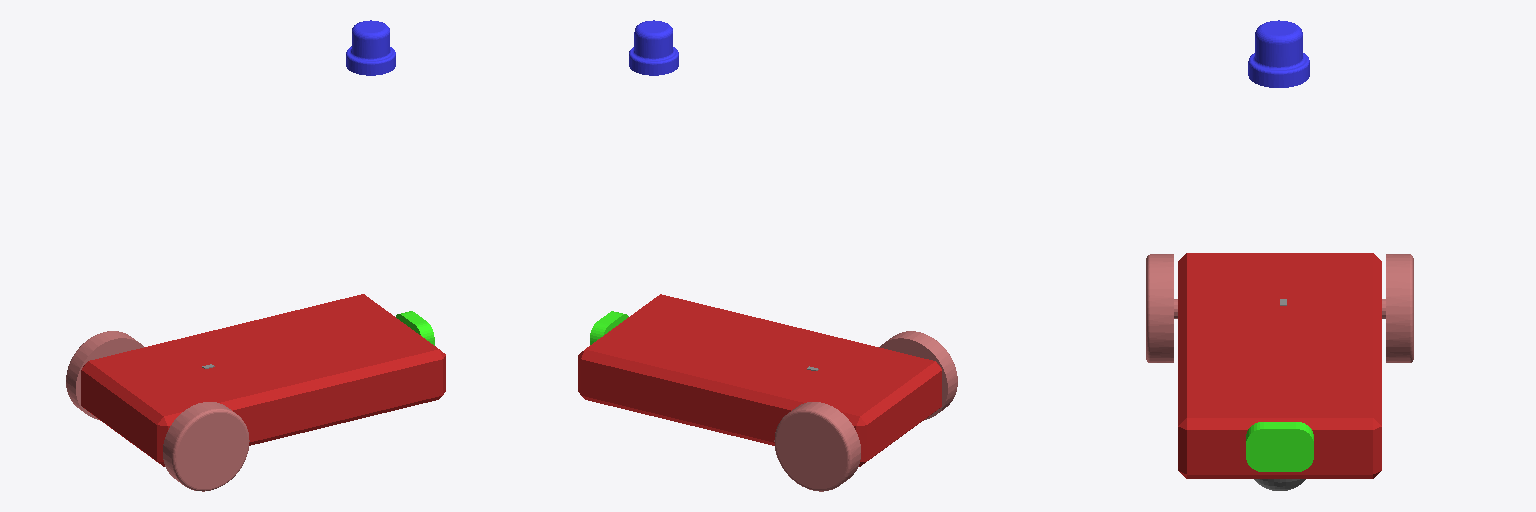
URDF robot description (diffRobot):
<?xml version="1.0"?>
<!-- This URDF was automatically created by SolidWorks to URDF Exporter! Originally created by [author] ([email redacted]) 
     Commit Version: 1.6.0-4-g7f85cfe  Build Version: 1.6.7995.38578
     For more information, please see http://wiki.ros.org/sw_urdf_exporter -->
<robot
  name="diffRobot">
  <link
    name="base_link">
    <inertial>
      <origin
        xyz="-0.00062795 1.3878E-17 -0.024858"
        rpy="0 0 0" />
      <mass
        value="2.3353" />
      <inertia
        ixx="0.0047521"
        ixy="-2.8063E-19"
        ixz="-3.1072E-05"
        iyy="0.017631"
        iyz="3.4444E-19"
        izz="0.021441" />
    </inertial>
    <visual>
      <origin
        xyz="0 0 0"
        rpy="0 0 0" />
      <geometry>
        <mesh 
          filename="package://diffRobot/meshes/base_link.STL" />
      </geometry>
      <material
        name="">
        <color
          rgba="0.8 0.2 0.2 0.5" />
      </material>
    </visual>
    <collision>
      <origin
        xyz="0 0 0"
        rpy="0 0 0" />
      <geometry>
        <mesh
          filename="package://diffRobot/meshes/base_link.STL" />
      </geometry>
    </collision>
  </link>
  <link
    name="left_wheel_link">
    <inertial>
      <origin
        xyz="0 0 0.010376"
        rpy="0 0 0" />
      <mass
        value="0.10933" />
      <inertia
        ixx="4.6798E-05"
        ixy="2.5104E-37"
        ixz="-4.7781E-23"
        iyy="4.6798E-05"
        iyz="-5.6383E-21"
        izz="8.5328E-05" />
    </inertial>
    <visual>
      <origin
        xyz="0 0 0"
        rpy="0 0 0" />
      <geometry>
        <mesh
          filename="package://diffRobot/meshes/left_wheel_link.STL" />
      </geometry>
      <material
        name="">
        <color
          rgba="0.8 0.5 0.5 0.5" />
      </material>
    </visual>
    <collision>
      <origin
        xyz="0 0 0"
        rpy="0 0 0" />
      <geometry>
        <mesh
          filename="package://diffRobot/meshes/left_wheel_link.STL" />
      </geometry>
    </collision>
  </link>
  <joint
    name="left_wheel_joint"
    type="continuous">
    <origin
      xyz="-0.11 0.098 -0.03"
      rpy="1.5708 0 0" />
    <parent
      link="base_link" />
    <child
      link="left_wheel_link" />
    <axis
      xyz="0 0 -1" />
    <limit
      effort="10"
      velocity="10" />
    <dynamics
      damping="0.1"
      friction="0.1" />
  </joint>
  <link
    name="right_wheel_link">
    <inertial>
      <origin
        xyz="0 -1.3878E-17 -0.010376"
        rpy="0 0 0" />
      <mass
        value="0.10933" />
      <inertia
        ixx="4.6798E-05"
        ixy="-5.4115E-21"
        ixz="-1.1353E-20"
        iyy="4.6798E-05"
        iyz="1.6894E-20"
        izz="8.5328E-05" />
    </inertial>
    <visual>
      <origin
        xyz="0 0 0"
        rpy="0 0 0" />
      <geometry>
        <mesh
          filename="package://diffRobot/meshes/right_wheel_link.STL" />
      </geometry>
      <material
        name="">
        <color
          rgba="0.8 0.5 0.5 0.5" />
      </material>
    </visual>
    <collision>
      <origin
        xyz="0 0 0"
        rpy="0 0 0" />
      <geometry>
        <mesh
          filename="package://diffRobot/meshes/right_wheel_link.STL" />
      </geometry>
    </collision>
  </link>
  <joint
    name="right_wheel_joint"
    type="continuous">
    <origin
      xyz="-0.11 -0.098 -0.03"
      rpy="1.5708 0 0" />
    <parent
      link="base_link" />
    <child
      link="right_wheel_link" />
    <axis
      xyz="0 0 -1" />
    <limit
      effort="10"
      velocity="10" />
    <dynamics
      damping="0.1"
      friction="0.1" />
  </joint>
  <link
    name="imu_link">
    <inertial>
      <origin
        xyz="0 0 -0.0005"
        rpy="0 0 0" />
      <mass
        value="5.35E-05" />
      <inertia
        ixx="1.1592E-10"
        ixy="1.5752E-26"
        ixz="2.3049E-27"
        iyy="4.5029E-10"
        iyz="3.8221E-29"
        izz="5.5729E-10" />
    </inertial>
    <visual>
      <origin
        xyz="0 0 0"
        rpy="0 0 0" />
      <geometry>
        <mesh
          filename="package://diffRobot/meshes/imu_link.STL" />
      </geometry>
      <material
        name="">
        <color
          rgba="0.6 0.6 0.6 0.5" />
      </material>
    </visual>
    <collision>
      <origin
        xyz="0 0 0"
        rpy="0 0 0" />
      <geometry>
        <mesh
          filename="package://diffRobot/meshes/imu_link.STL" />
      </geometry>
    </collision>
  </link>
  <joint
    name="imu_joint"
    type="fixed">
    <origin
      xyz="-0.055983 0.0025 0.001"
      rpy="0 0 0" />
    <parent
      link="base_link" />
    <child
      link="imu_link" />
    <axis
      xyz="0 0 0" />
    <limit
      effort="0"
      velocity="0" />
    <dynamics
      damping="0"
      friction="0" />
  </joint>

  <link
    name="lidar_link">
    <inertial>
      <origin
        xyz="-1.0544E-07 7.1804E-08 -0.021531"
        rpy="0 0 0" />
      <mass
        value="0.047243" />
      <inertia
        ixx="1.0378E-05"
        ixy="-1.0396E-11"
        ixz="-1.2143E-11"
        iyy="1.0379E-05"
        iyz="1.7126E-11"
        izz="9.3515E-06" />
    </inertial>
    <visual>
      <origin
        xyz="0 0 0"
        rpy="0 0 0" />
      <geometry>
        <mesh
          filename="package://diffRobot/meshes/lidar_link.STL" />
      </geometry>
      <material
        name="">
        <color
          rgba="0.3 0.3 1 0.5" />
      </material>
    </visual>
    <collision>
      <origin
        xyz="0 0 0"
        rpy="0 0 0" />
      <geometry>
        <mesh
          filename="package://diffRobot/meshes/lidar_link.STL" />
      </geometry>
    </collision>
  </link>

  <joint
    name="lidar_link_joint"
    type="fixed">
    <origin xyz="0.11095 -0.00065698 0.3" rpy="0 0 0" />
    <parent link="base_link" />
    <child link="lidar_link" />
  </joint>

  <!-- Simple Ball Caster -->
  <link name="ball_caster_link">
    <inertial>
      <origin xyz="0 0 0" rpy="0 0 0" />
      <mass value="0.05" />
      <inertia
        ixx="0.00002"
        ixy="0"
        ixz="0"
        iyy="0.00002"
        iyz="0"
        izz="0.00002" />
    </inertial>
    <visual>
      <origin xyz="0 0 0" rpy="0 0 0" />
      <geometry>
        <sphere radius="0.025" />
      </geometry>
      <material name="grey">
        <color rgba="0.5 0.5 0.5 1" />
      </material>
    </visual>
    <collision>
      <origin xyz="0 0 0" rpy="0 0 0" />
      <geometry>
        <sphere radius="0.025" />
      </geometry>
    </collision>
  </link>

  <joint name="ball_caster_joint" type="fixed">
    <origin xyz="0.105 0 -0.05" rpy="0 0 0" />
    <parent link="base_link" />
    <child link="ball_caster_link" />
    <axis xyz="0 0 1" />
  </joint>

  <link
    name="camera_link">
    <inertial>
      <origin
        xyz="0 0 0"
        rpy="0 0 0" />
      <mass
        value="0.047243" />
      <inertia
        ixx="1.0378E-05"
        ixy="-1.0396E-11"
        ixz="-1.2143E-11"
        iyy="1.0379E-05"
        iyz="1.7126E-11"
        izz="9.3515E-06" />
    </inertial>
    <visual>
      <origin
        xyz="0 0 0"
        rpy="0 0 0" />
      <geometry>
        <mesh
          filename="package://diffRobot/meshes/camera_link.STL" />
      </geometry>
      <material
        name="">
        <color
          rgba="0.3 1 0.2 0.5" />
      </material>
    </visual>
    <collision>
      <origin
        xyz="0 0 0"
        rpy="0 0 0" />
      <geometry>
        <mesh
          filename="package://diffRobot/meshes/camera_link.STL" />
      </geometry>
    </collision>
  </link>

  <joint
    name="camera_joint"
    type="fixed">
    <origin
      xyz="0.163 0 -0.0175"
      rpy="0 0 0" />
    <parent
      link="base_link" />
    <child
      link="camera_link" />
    <axis
      xyz="0 0 0" />
    <limit
      effort="0"
      velocity="0" />
    <dynamics
      damping="0"
      friction="0" />
  </joint>
<!--
  <link name="dummy_root">
    <inertial>
      <mass value="0.001"/>
        <inertia ixx="0.001" ixy="0.0" ixz="0.0" iyy="0.001" iyz="0.0" izz="0.001"/>
    </inertial>
  </link>

  <joint name="dummy_root_joint" type="fixed">
    <parent link="dummy_root"/>
    <child link="base_link"/>
    <origin xyz="0 0 0" rpy="0 0 0"/>
  </joint>
-->
    <!-- ========== GAZEBO EXTENSIONS ========== -->
  
 <!-- ========== GAZEBO EXTENSIONS ========== -->
 <!-- Gazebo material properties -->
  <gazebo reference="base_link">
    <material>Gazebo/Red</material>
  </gazebo>
  
  <gazebo reference="left_wheel_link">
    <material>Gazebo/Orange</material>
    <mu1>1.5</mu1>  <!-- Friction coefficient 1 -->
    <mu2>1.5</mu2>  <!-- Friction coefficient 2 -->
    <minDepth>0.001</minDepth>
    <maxVel>5.0</maxVel>
  </gazebo>
  
  <gazebo reference="right_wheel_link">
    <material>Gazebo/Orange</material>
    <mu1>1.5</mu1>
    <mu2>1.5</mu2>
    <minDepth>0.001</minDepth>
    <maxVel>5.0</maxVel>
  </gazebo>

<gazebo reference="ball_caster_link">
  <material>Gazebo/Grey</material>
  <mu1>0.01</mu1>  <!-- Medium friction -->
  <mu2>0.01</mu2>
  <kp>1000000.0</kp>
  <kd>100.0</kd>
  <selfCollide>false</selfCollide>
</gazebo>
  
  <gazebo reference="imu_link">
    <material>Gazebo/Grey</material>
  </gazebo>

    <gazebo reference="lidar_link">
    <material>Gazebo/Blue</material>
    </gazebo>
    
  <gazebo reference="camera_link">
    <material>Gazebo/Green</material>
  </gazebo>
  
  <!-- Optional: Add simple wheel controllers for differential drive -->
  <gazebo>
    <plugin filename="gz-sim-diff-drive-system" name="gz::sim::systems::DiffDrive">
      <left_joint>left_wheel_joint</left_joint>
      <right_joint>right_wheel_joint</right_joint>
      <!-- <wheel_separation>0.020752</wheel_separation> -->
      <wheel_separation>0.132</wheel_separation>
      <wheel_radius>0.04</wheel_radius> <!-- Approximate radius (diameter 0.1 / 2) -->
      <odom_publish_frequency>50</odom_publish_frequency>
      <topic>/model/diffRobot/cmd_vel</topic>
    </plugin>

    <plugin
      filename="gz-sim-odometry-publisher-system"
      name="gz::sim::systems::OdometryPublisher">
      <odom_frame>odom</odom_frame>
      <robot_base_frame>base_link</robot_base_frame>
      <odom_publish_frequency>50</odom_publish_frequency>
      <odom_topic>/odom</odom_topic>
      <!-- <tf_topic>/model/diffRobot/tf</tf_topic> -->
      <dimensions>2</dimensions>
      <publish_tf>true</publish_tf>
    </plugin>

    <plugin filename="gz-sim-joint-state-publisher-system" name="gz::sim::systems::JointStatePublisher">
        <topic>joint_state</topic>
        <joint_name>right_wheel_joint</joint_name>
        <joint_name>left_wheel_joint</joint_name>
    </plugin>


  </gazebo>

<!-- ========== 2D LIDAR CONFIGURATION ========== -->


<!-- Add the 2D lidar sensor -->
<gazebo reference="lidar_link">
  <sensor name="lidar_link" type="gpu_lidar">
    <pose relative_to='lidar_link'> 0 0 0 0 0 0 </pose>
    <update_rate>10</update_rate>
    <topic>scan</topic>
    <gz_frame_id>lidar_link</gz_frame_id>
    <lidar>
        <scan>
            <horizontal>
            <samples>360</samples>
            <resolution>1</resolution>
            <min_angle>-3.14</min_angle>
            <max_angle>3.14</max_angle>
            </horizontal>
        </scan>
        <range>
            <min>0.01</min>
            <max>10</max>
            <resolution>0.01</resolution>
        </range>
        <noise>
            <type>gaussian</type>
            <mean>0.0</mean>
            <stddev>0.01</stddev>
        </noise>

    </lidar>
    <always_on>1</always_on>
    <visualize>true</visualize>
  </sensor>
  </gazebo>

  <!-- Add the IMU sensor -->
  <!-- <gazebo reference="imu_link">
    <sensor name="imu_sensor" type="imu">
      <pose relative_to='imu_link'> 0 0 0 0 0 0 </pose>
      <update_rate>50</update_rate>
      <topic>imu/data</topic>
      <imu>
        <angular_velocity>
          <noise type="gaussian">
            <mean>0.0</mean>
            <stddev>0.01</stddev>
          </noise>
        </angular_velocity>
        <linear_acceleration>
          <noise type="gaussian">
            <mean>0.0</mean>
            <stddev>0.01</stddev>
          </noise>
        </linear_acceleration>
      </imu>
      <always_on>1</always_on>
      <visualize>true</visualize>
    </sensor>
  </gazebo> -->

  <!-- Add the IMU sensor -->
  <gazebo reference="imu_link">
    <material>Gazebo/Grey</material>
    <!-- ADD THIS IMU SENSOR PLUGIN BELOW -->
    <sensor name="imu_sensor" type="imu">
      <always_on>true</always_on>
      <update_rate>100</update_rate>
      <topic>imu</topic>
      <gz_frame_id>imu_link</gz_frame_id>
      <imu>
        <noise>
          <type>gaussian</type>
          <!-- Angular velocity noise (rad/s) -->
          <rate>
            <mean>0.0</mean>
            <stddev>0.001</stddev>
            <bias_mean>0.0000001</bias_mean>
            <bias_stddev>0.0000001</bias_stddev>
          </rate>
          <!-- Linear acceleration noise (m/s²) -->
          <accel>
            <mean>0.001</mean>
            <stddev>0.001</stddev>
            <bias_mean>0.001</bias_mean>
            <bias_stddev>0.0001</bias_stddev>
          </accel>
        </noise>
      </imu>
    </sensor>
  </gazebo>
    
</robot>

--- Facts derived from the render (not from the file) ---
Views: 3 orthographic renders of the robot side by side, from view 1: azimuth 30°, elevation 25°; view 2: azimuth 150°, elevation 25°; view 3: azimuth 270°, elevation 25°.
Model diffRobot with 7 links and 6 joints (2 continuous, 4 fixed), rooted at base_link, posed every joint at zero.
Visible links, largest first — view 1: base_link, right_wheel_link, lidar_link, left_wheel_link, camera_link; view 2: base_link, left_wheel_link, lidar_link, right_wheel_link, camera_link; view 3: base_link, lidar_link, camera_link, left_wheel_link, right_wheel_link.
Boxes of the visible links, <box> form: base_link: <box>81,294,445,466</box>; right_wheel_link: <box>163,402,249,491</box>; lidar_link: <box>346,20,395,75</box>; left_wheel_link: <box>66,331,143,419</box>; camera_link: <box>396,311,434,345</box>; base_link: <box>578,294,941,466</box>; left_wheel_link: <box>774,402,860,491</box>; lidar_link: <box>629,20,678,75</box>; right_wheel_link: <box>879,331,957,419</box>; camera_link: <box>590,311,628,344</box>; base_link: <box>1178,253,1381,478</box>; lidar_link: <box>1248,20,1309,87</box>; camera_link: <box>1246,422,1313,471</box>; left_wheel_link: <box>1382,254,1413,362</box>; right_wheel_link: <box>1146,254,1177,362</box>.
Size in the robot's own frame: 0.313 by 0.196 by 0.375 metres.
Meshes: 6 distinct files referenced, 6 mesh visuals loaded (6 binary STL).